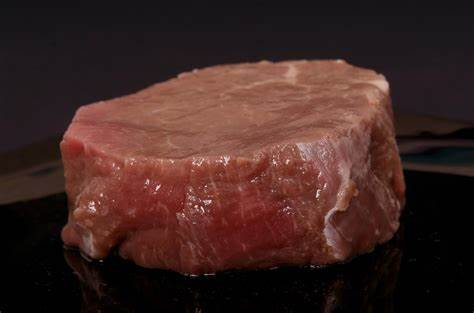Beef: (50, 42, 426, 295)
